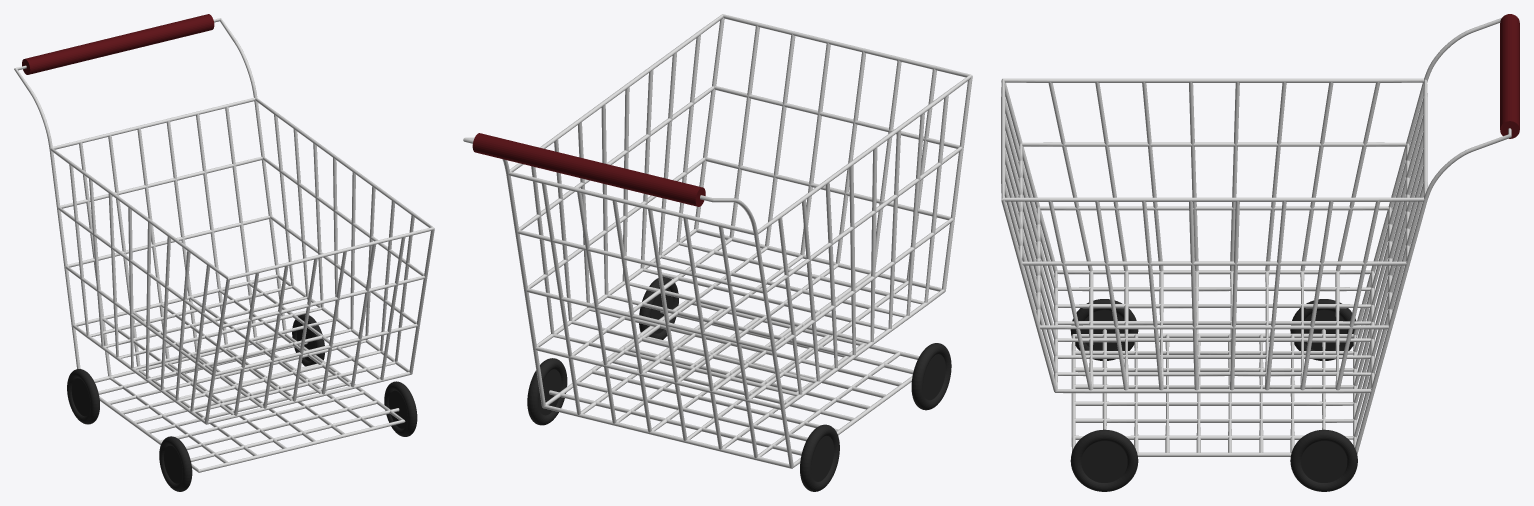
File: Shopping Cart_fbx_Collection.fbx
The picture shows the model from 3 angles, left to right: view 1: azimuth 30°, elevation 25°; view 2: azimuth 150°, elevation 25°; view 3: azimuth 270°, elevation 25°; orthographic projection. The views are drawn at different scales.
Visible parts, largest first — view 1: Cube, Torus, Cylinder; view 2: Cube, Torus, Cylinder; view 3: Cube, Torus, Cylinder.
Boxes of the visible parts, x1,y1,x2,y2 form: Cube: (14,18,434,472); Torus: (67,314,417,491); Cylinder: (22,14,214,74); Cube: (463,14,972,468); Torus: (527,276,951,491); Cylinder: (472,133,705,206); Cube: (1001,18,1511,456); Torus: (1070,299,1357,491); Cylinder: (1500,14,1519,138).
Size of the model in its own units: 2.28 by 2.81 by 3.68.
